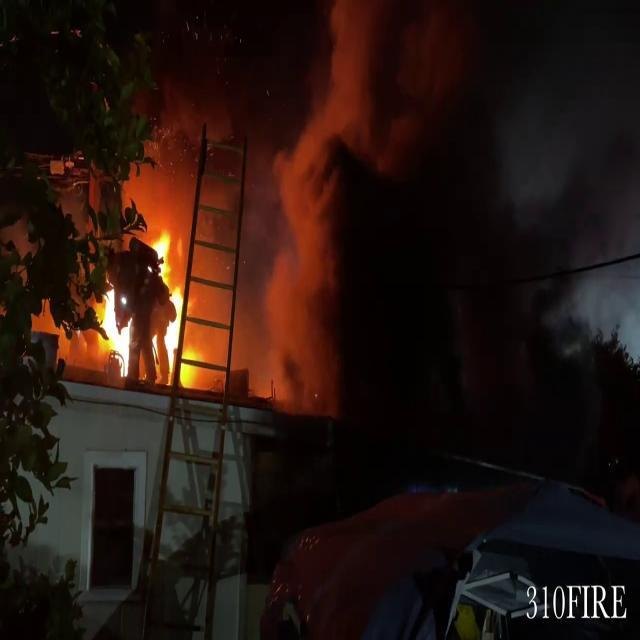Fire: (93, 221, 203, 391), (154, 220, 194, 384), (94, 281, 134, 378)
Smoke: (173, 0, 640, 424)
